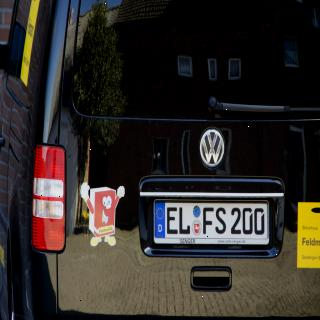license: (156, 198, 272, 245)
